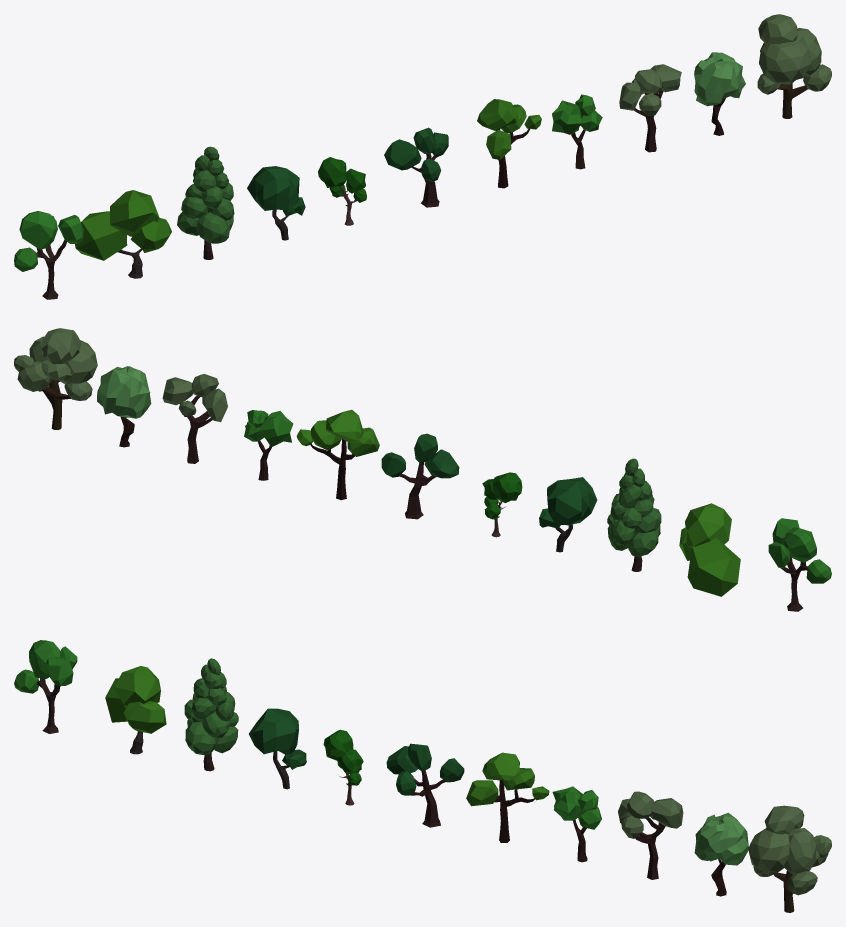
The model's file is LOW_POLY_TREES.FBX.
3 renders of one model, top to bottom at view 1: azimuth 30°, elevation 25°; view 2: azimuth 150°, elevation 25°; view 3: azimuth 330°, elevation 25°, orthographic.
Visible parts, largest first — view 1: Tree03, Tree01, Tree02, Tree08, Tree09, Tree10, Tree11, Tree04, Tree05, Tree06, Tree07; view 2: Tree03, Tree01, Tree02, Tree10, Tree08, Tree09, Tree04, Tree11, Tree05, Tree06, Tree07; view 3: Tree03, Tree02, Tree01, Tree10, Tree11, Tree08, Tree09, Tree04, Tree05, Tree06, Tree07.
Boxes of the visible parts, x1,y1,x2,y2 form: Tree03: (757,14,831,118); Tree01: (75,190,171,278); Tree02: (177,146,234,259); Tree08: (14,211,83,299); Tree09: (619,64,681,152); Tree10: (477,99,541,188); Tree11: (384,127,448,207); Tree04: (694,52,745,135); Tree05: (247,166,305,240); Tree06: (552,94,602,169); Tree07: (318,157,366,225); Tree03: (14,328,97,429); Tree01: (679,503,740,596); Tree02: (607,458,661,571); Tree10: (296,409,379,500); Tree08: (768,518,831,611); Tree09: (162,374,227,463); Tree04: (97,366,151,447); Tree11: (381,433,459,519); Tree05: (539,477,597,552); Tree06: (244,410,293,480); Tree07: (482,472,522,537); Tree03: (748,805,831,912); Tree02: (184,658,238,771); Tree01: (105,666,166,754); Tree10: (466,752,549,842); Tree11: (386,743,464,827); Tree08: (14,640,77,733); Tree09: (618,791,683,879); Tree04: (694,812,748,896); Tree05: (249,708,306,789); Tree06: (552,786,601,862); Tree07: (323,729,363,805).
Bounding box in the file's own units: 4439 × 581 × 467.
